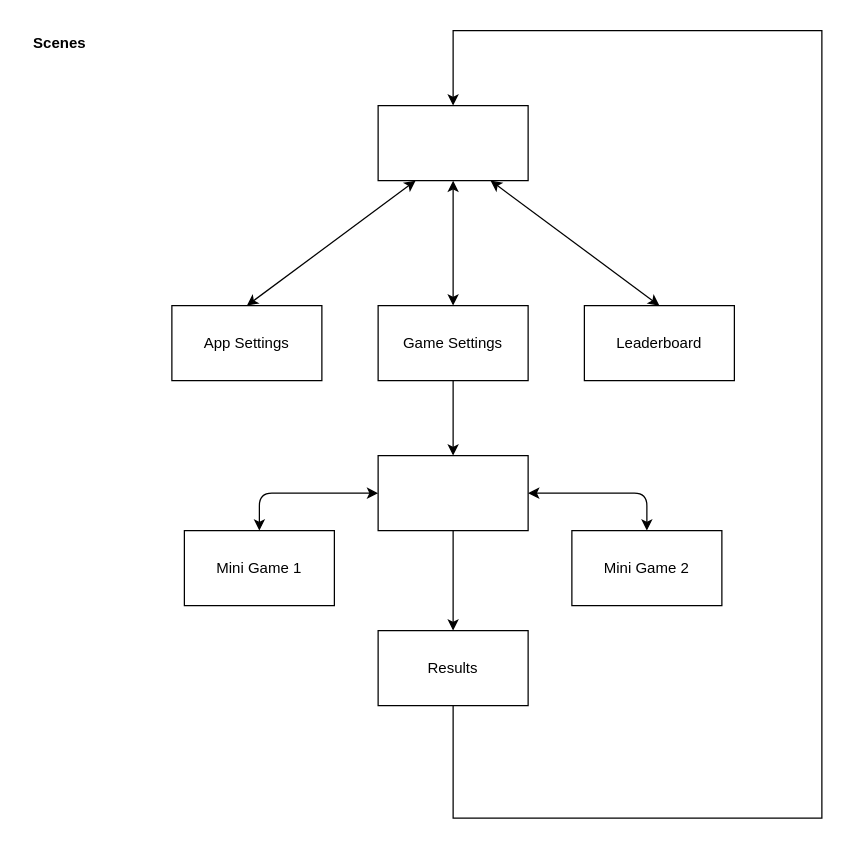
The diagram is 854 pixels wide and 850 high, and some of its shapes have lost their labels. Each missing label, with the box of its shape:
Game: (377, 454, 528, 531)
Main Menu: (377, 104, 528, 181)
